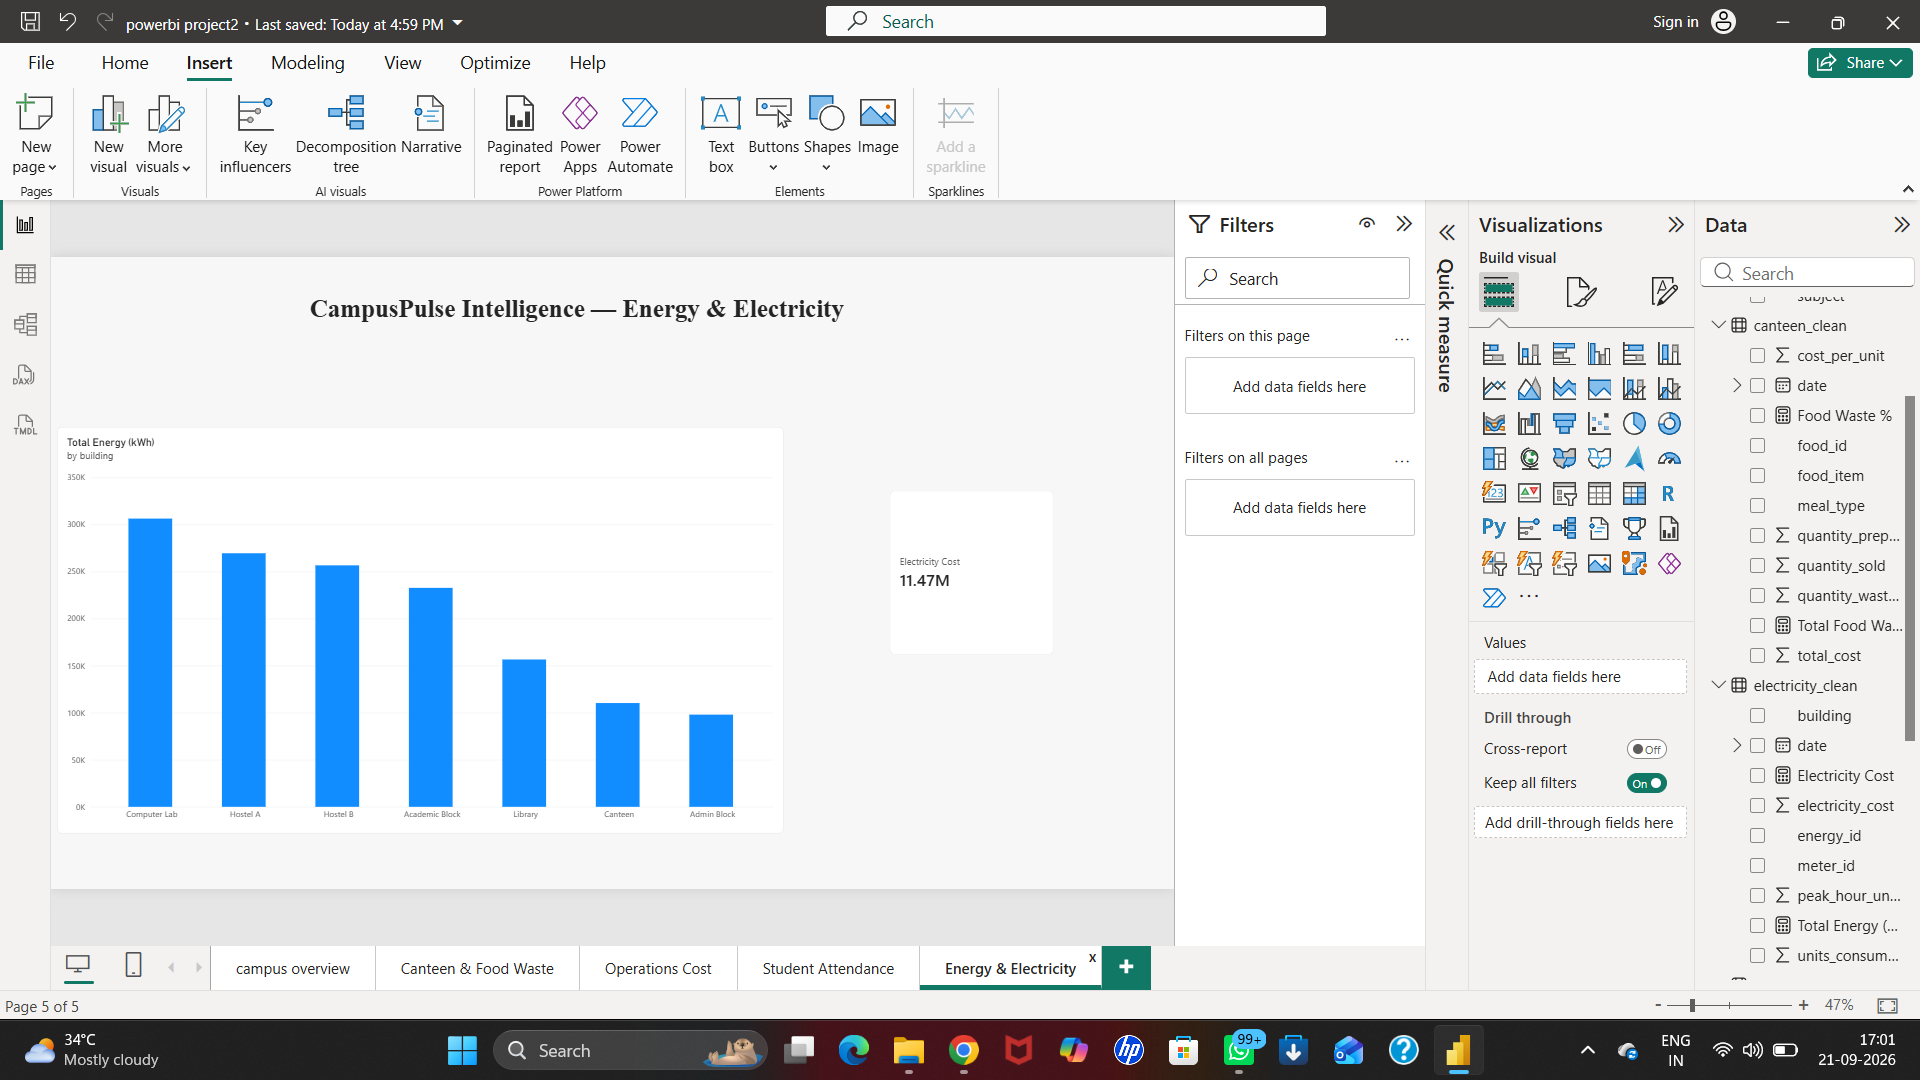

This screenshot's page, from the dashboard's own definition file:
{"tool":"powerbi","page":{"name":"Energy & Electricity","canvas":[1920,1080],"ordinal":4},"visuals":[{"type":"cardVisual","fields":{"Data":["electricity_clean.Electricity Cost"]},"box":[1434.7,399.8,280,280],"z":0},{"type":"clusteredColumnChart","fields":{"Category":["electricity_clean.building"],"Y":["electricity_clean.Total Energy (kWh)"]},"box":[10.7,290.8,1242.2,694.9],"z":1},{"type":"textbox","box":[442.6,64.1,1306.4,117.6],"z":2}]}

Visuals, with their boxes on the page's 1920x1080 design canvas (x1, y1, x2, y2). These are canvas units, not pixel positions in the 1920x1080 screenshot, which may show the page scaled, cropped or inside an application window:
cardVisual - electricity_clean.Electricity Cost: (1435,400,1715,680)
clusteredColumnChart - electricity_clean.building x electricity_clean.Total Energy (kWh): (11,291,1253,986)
textbox: (443,64,1749,182)
